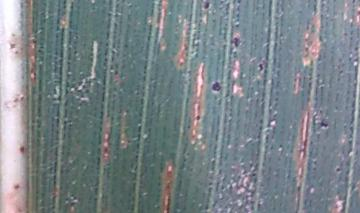tarspot: (230, 31, 242, 53), (209, 79, 223, 96), (255, 60, 267, 76), (317, 119, 331, 132), (201, 1, 212, 13), (17, 144, 27, 156), (12, 181, 22, 193), (333, 164, 343, 176), (30, 36, 39, 45), (194, 113, 202, 122), (342, 31, 350, 40), (352, 45, 360, 54), (252, 170, 259, 180), (356, 5, 360, 21)
